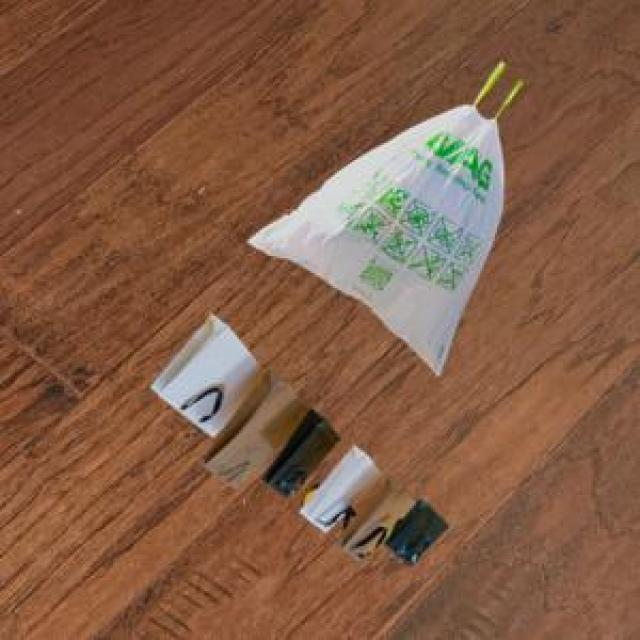paper: (147, 309, 444, 561)
